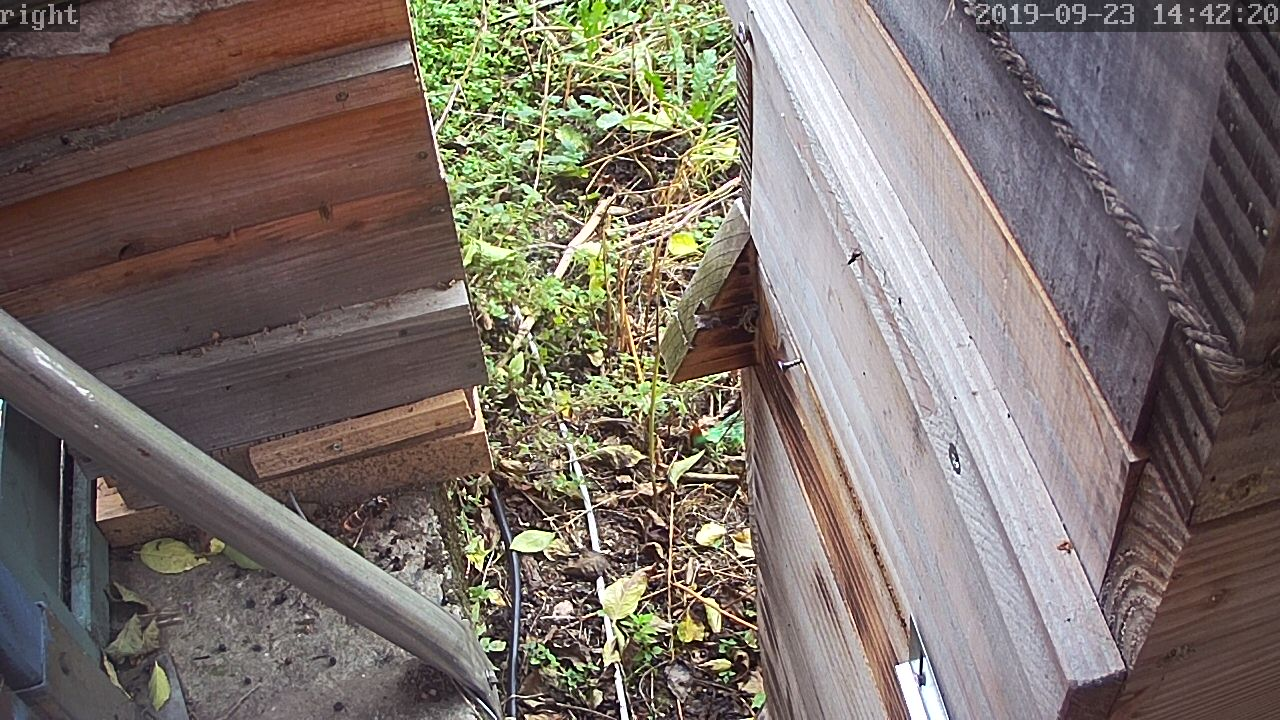hornet: (585, 142, 661, 198), (326, 482, 401, 534), (591, 413, 637, 447)
